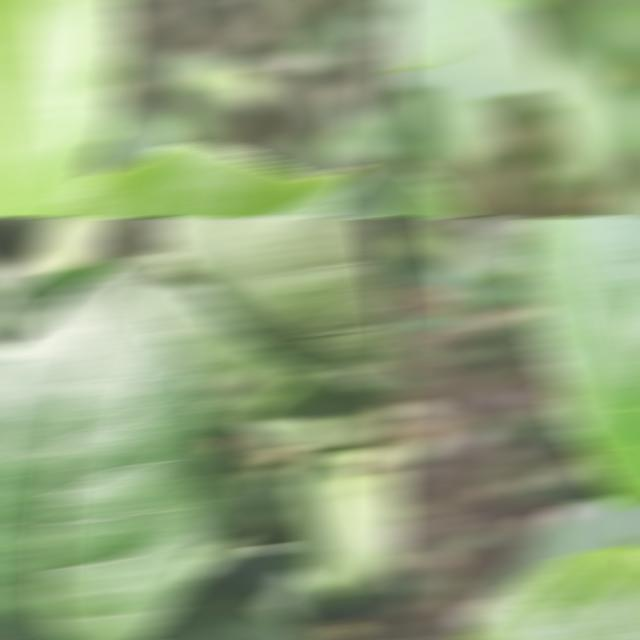Leaf: (0, 255, 220, 640), (151, 218, 404, 394), (516, 218, 640, 506), (0, 0, 130, 216), (39, 143, 365, 216), (149, 282, 305, 428), (267, 450, 404, 603), (388, 0, 568, 107), (454, 545, 640, 640), (541, 46, 633, 187), (239, 373, 392, 449), (134, 588, 313, 640), (552, 0, 640, 64), (346, 473, 404, 527), (596, 161, 640, 216), (388, 254, 441, 282)
